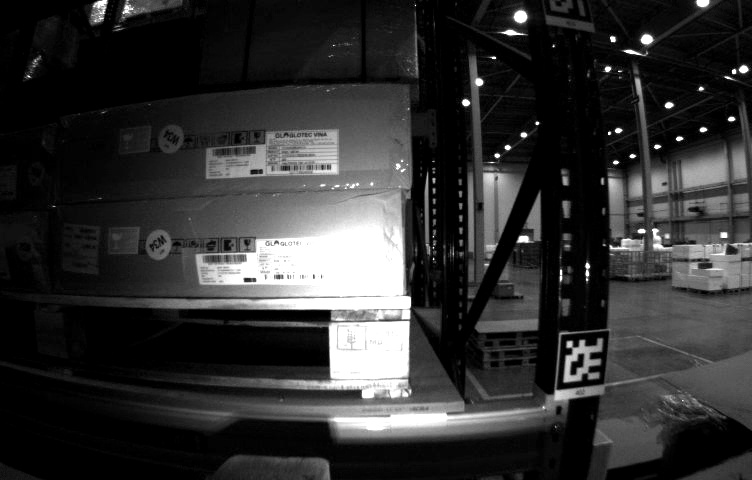True Barcode: (59, 223, 100, 276)
